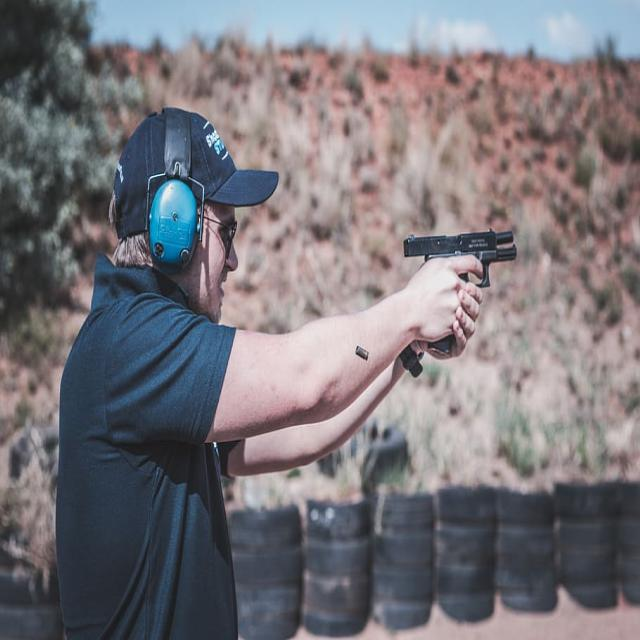handgun: (408, 235, 518, 330)
